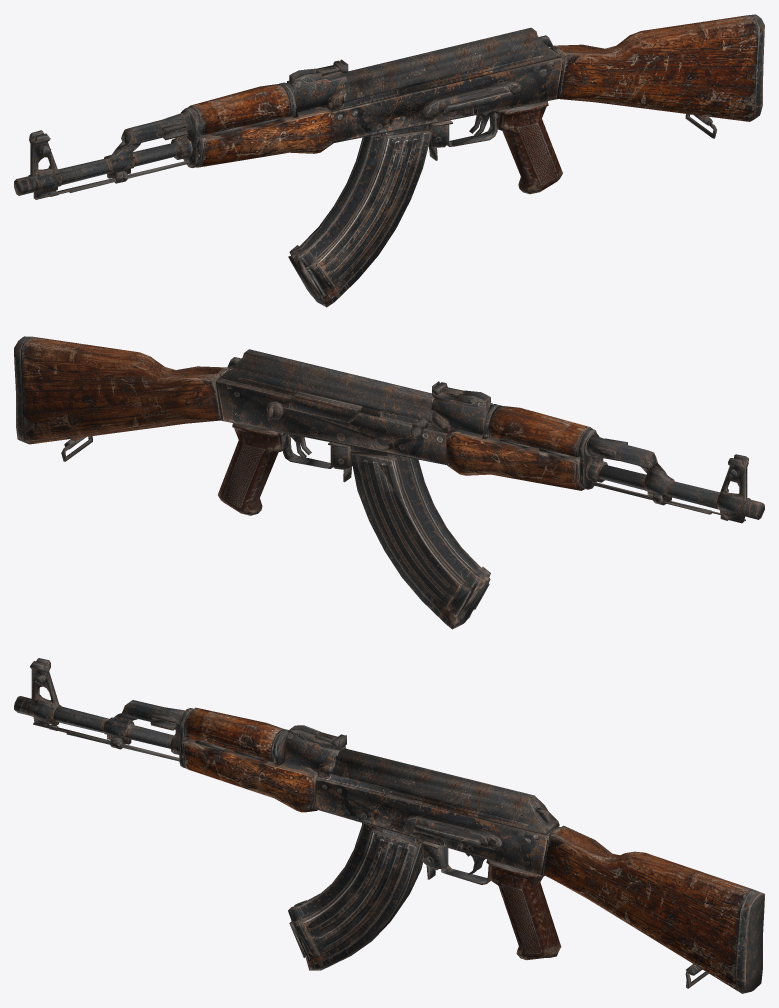
File: Meshy_AI_model.fbx
The picture shows the model from 3 angles, top to bottom: view 1: azimuth 30°, elevation 25°; view 2: azimuth 150°, elevation 25°; view 3: azimuth 330°, elevation 25°; orthographic projection.
Visible parts, largest first — view 1: Mesh_0; view 2: Mesh_0; view 3: Mesh_0.
Boxes of the visible parts, <box> form: Mesh_0: <box>14,14,764,307</box>; Mesh_0: <box>14,336,764,629</box>; Mesh_0: <box>14,658,764,993</box>.
Size of the model in its own units: 95.75 by 29.59 by 7.81.
Materials: 1 (1 with a texture image).
